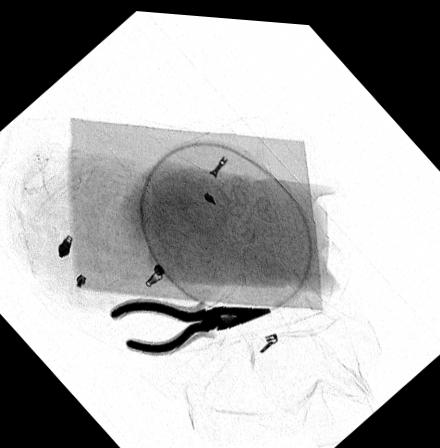Pliers: (109, 296, 272, 353)
